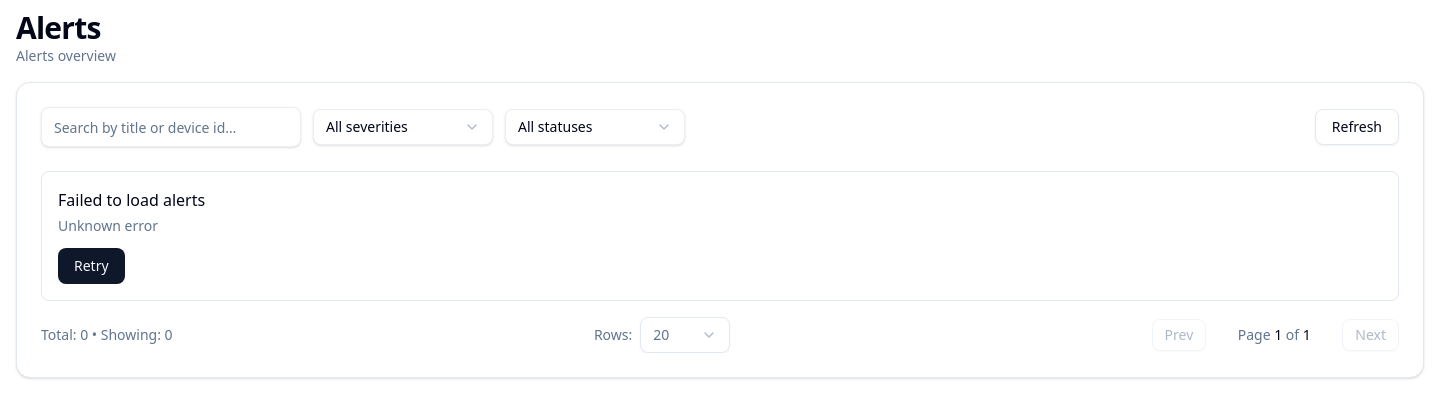
Test: retry refetch recovers and shows table on success
Expected: the text "Failed to load alerts" is shown, [58,189,205,211]
Click the button "Retry".
click(91, 266)  # box [58,248,125,284]
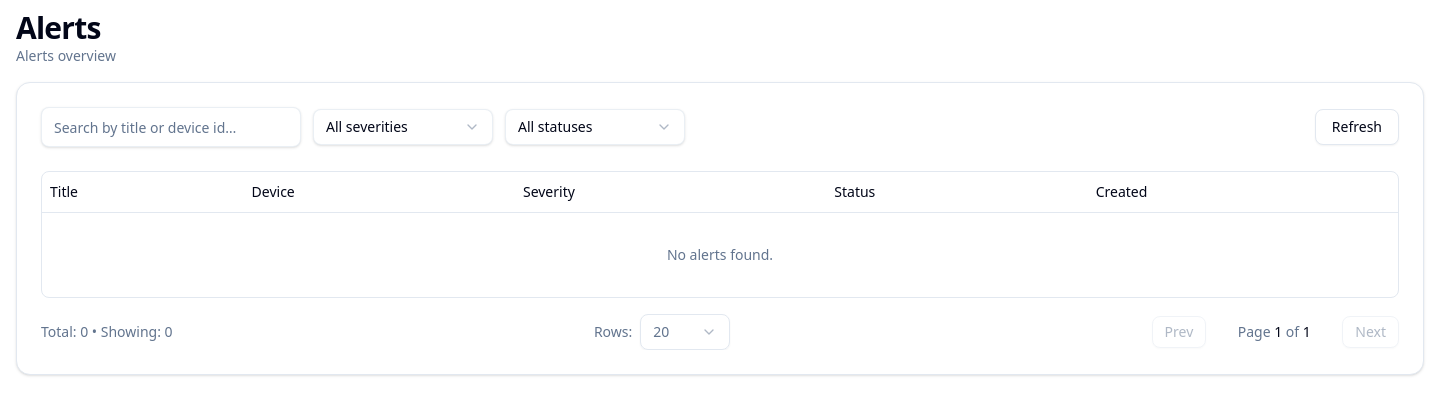
Expected: the table is shown, [42,172,1398,296]
